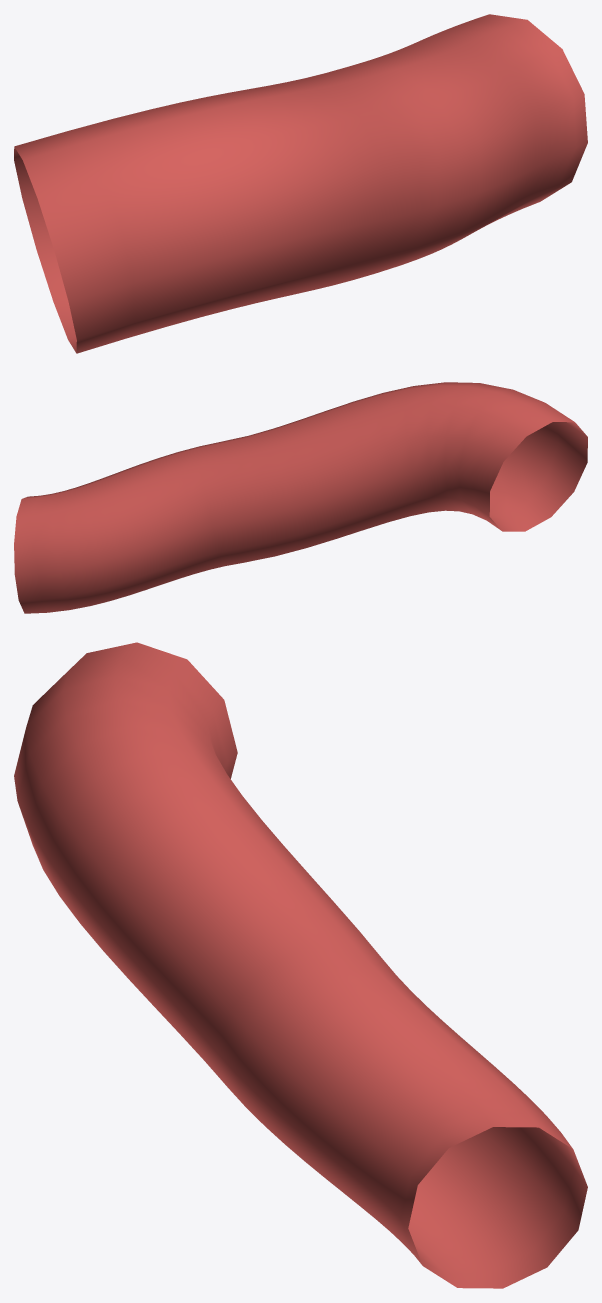
3 views of the same model, one above another, from view 1: azimuth 30°, elevation 25°; view 2: azimuth 150°, elevation 25°; view 3: azimuth 270°, elevation 25° (orthographic). The views are drawn at different scales.
Visible parts, largest first — view 1: 左冠状动脉; view 2: 左冠状动脉; view 3: 左冠状动脉.
Boxes of the visible parts, box(x1,y1,x2,y2) form: 左冠状动脉: box(14, 14, 587, 353); 左冠状动脉: box(14, 382, 587, 613); 左冠状动脉: box(14, 642, 587, 1288).
Bounding box in the file's own units: 0.0226 × 0.0105 × 0.016.
